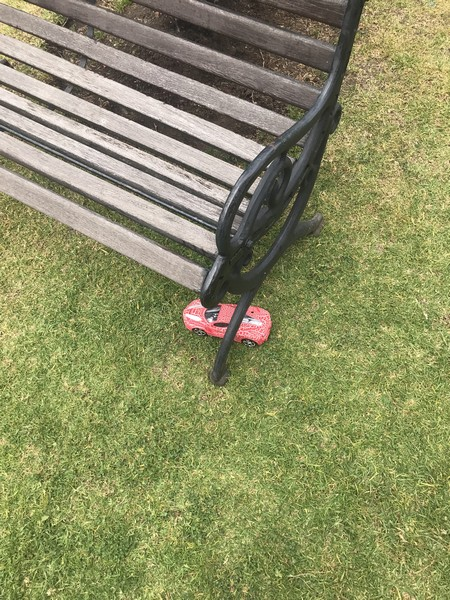RC: (182, 298, 272, 348)
